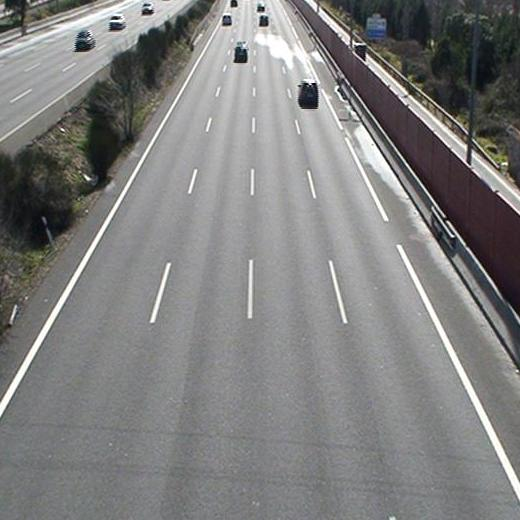car: (298, 78, 319, 107), (234, 41, 249, 63)
